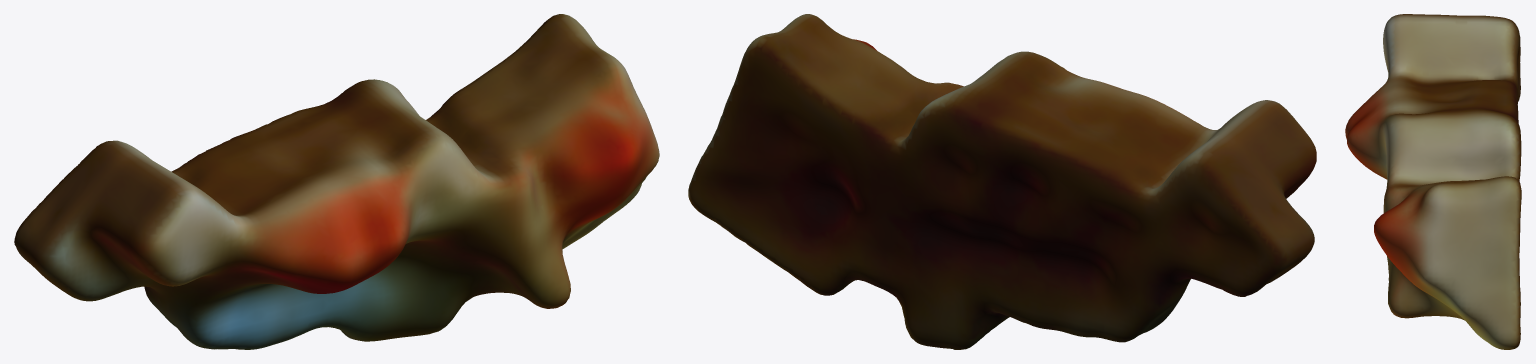
The model's file is blocks.glb.
3 renders of one model, left to right at view 1: azimuth 30°, elevation 25°; view 2: azimuth 150°, elevation 25°; view 3: azimuth 270°, elevation 25°, orthographic. The views are drawn at different scales.
Bounding box in the file's own units: 0.999 × 0.4249 × 0.3212.
